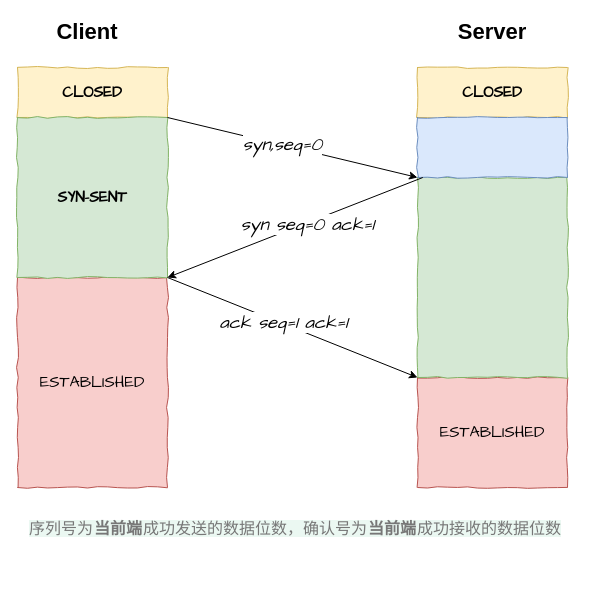
Image size: 605x589. Some labels were removed from this diagram. The shapes that lost their labels are listed below. From the top down, each one's box as (x1, y1, x2, y2) in pixels, then its label:
(416, 116, 568, 178): LISTEN
(416, 176, 568, 378): SYN-RECV
